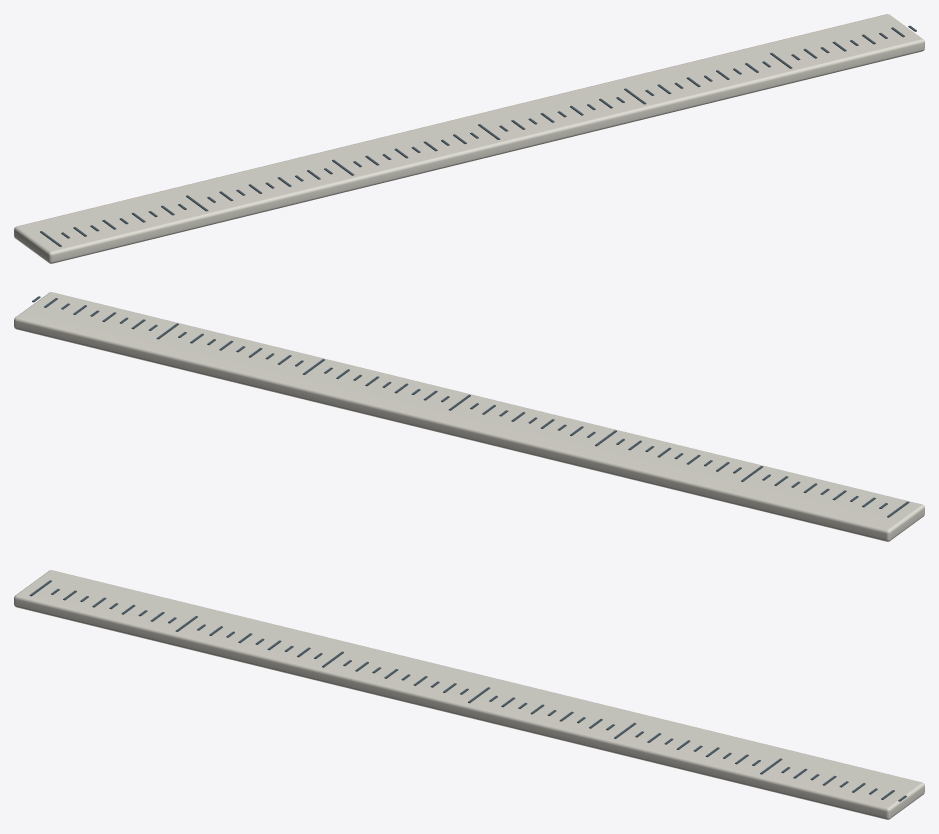
Rendered from ruler.glb.
3 renders of one model, top to bottom at view 1: azimuth 30°, elevation 25°; view 2: azimuth 150°, elevation 25°; view 3: azimuth 330°, elevation 25°, orthographic.
Parts seen in each view (by area): view 1: drafting_kit_Mesh.001; view 2: drafting_kit_Mesh.001; view 3: drafting_kit_Mesh.001.
Part boxes in pixels (box(x1,y1,x2,y2)): drafting_kit_Mesh.001: box(14, 14, 924, 263); drafting_kit_Mesh.001: box(14, 292, 924, 541); drafting_kit_Mesh.001: box(14, 570, 924, 819).
Bounding box in the file's own units: 0.3003 × 0.00445 × 0.022.
